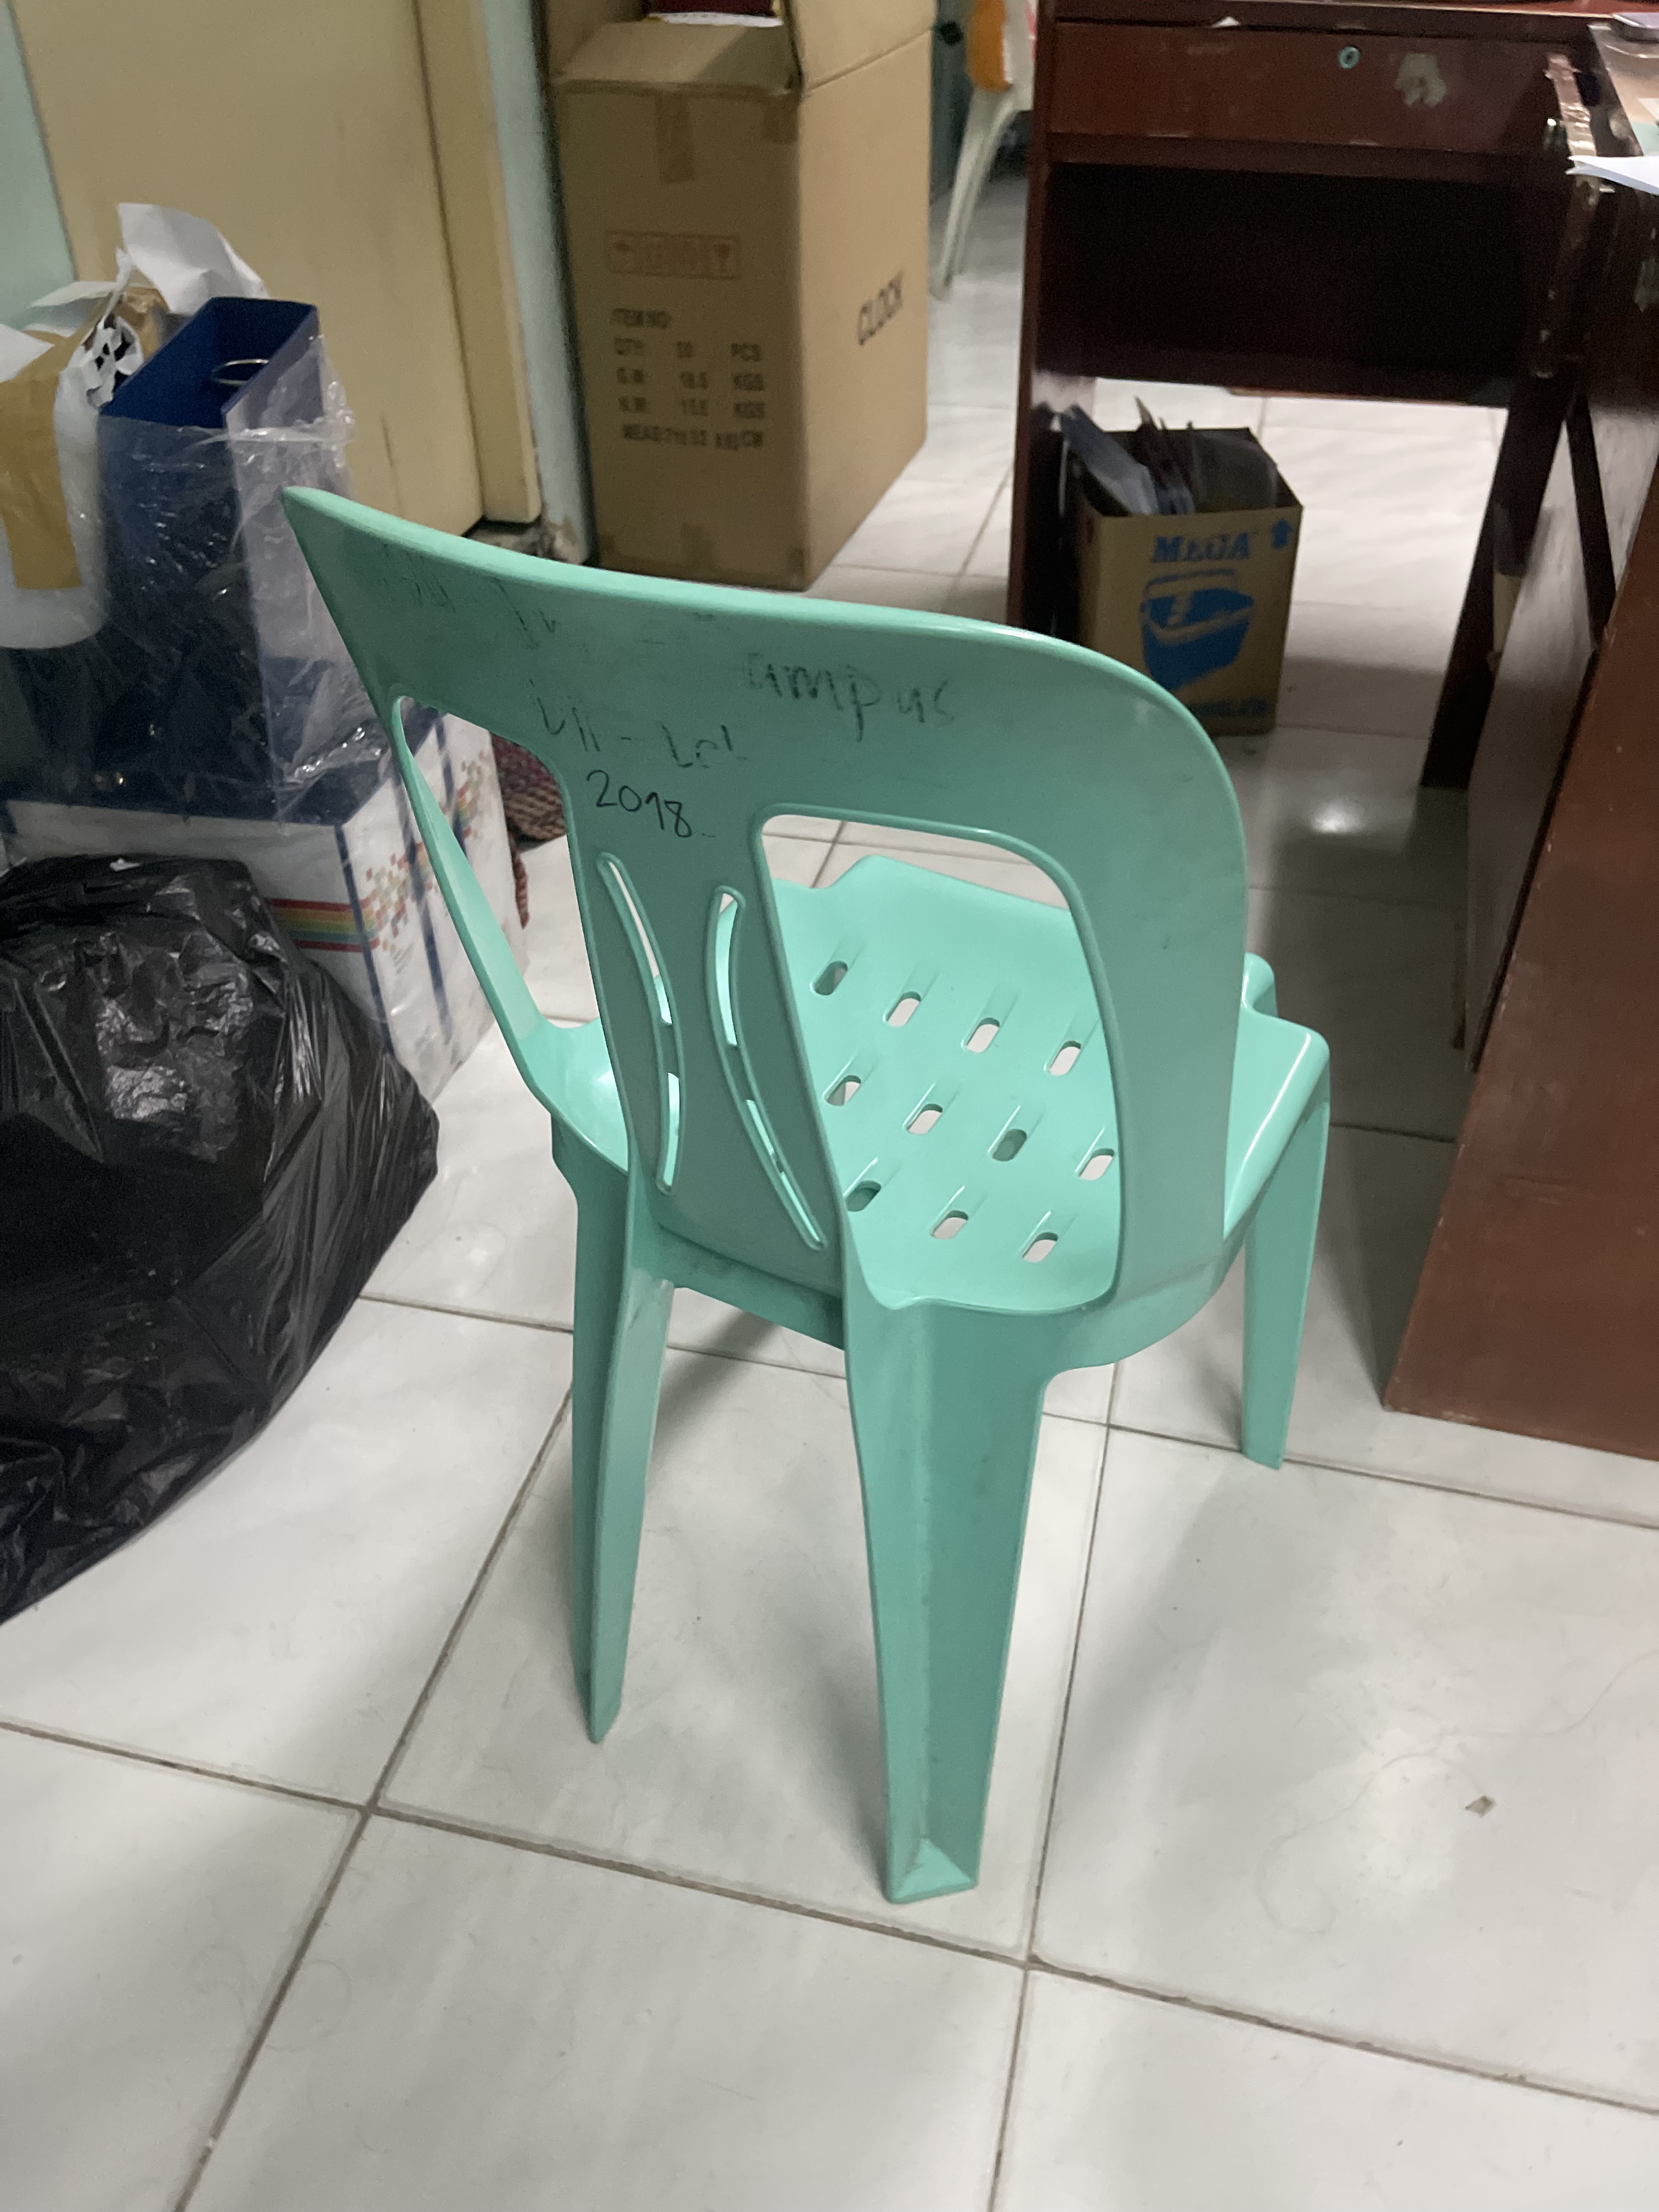chair2: (275, 475, 1337, 1918)
